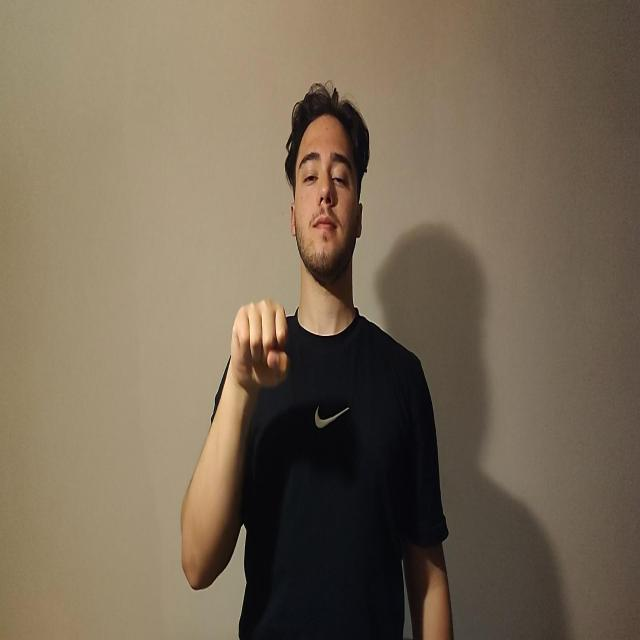yes: (230, 297, 290, 393)
